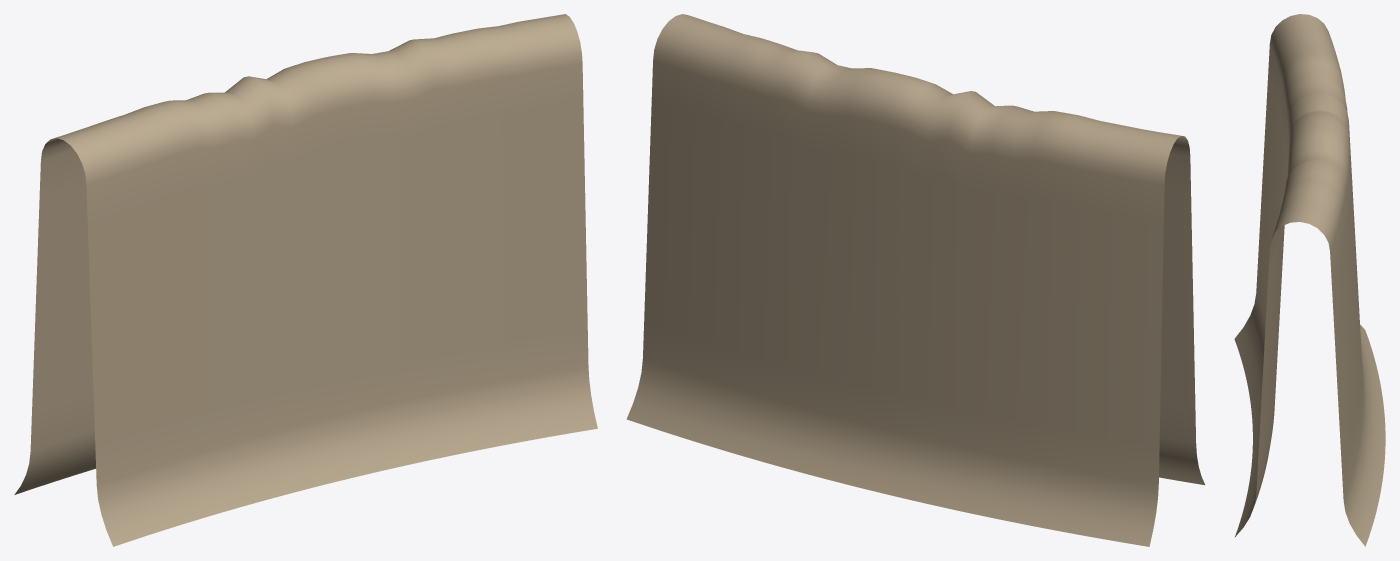
The model's file is KFB_Wall_curved_ring_r4.r1.glb.
3 views of the same model, side by side, from view 1: azimuth 30°, elevation 25°; view 2: azimuth 150°, elevation 25°; view 3: azimuth 270°, elevation 25° (orthographic). The views are drawn at different scales.
Visible parts, largest first — view 1: KFB_Wall_curved_ring_r4; view 2: KFB_Wall_curved_ring_r4; view 3: KFB_Wall_curved_ring_r4.
Boxes of the visible parts, <box> form: KFB_Wall_curved_ring_r4: <box>14,14,597,546</box>; KFB_Wall_curved_ring_r4: <box>626,14,1204,546</box>; KFB_Wall_curved_ring_r4: <box>1234,14,1385,546</box>.
Bounding box in the file's own units: 5.22 × 3.64 × 1.54.
